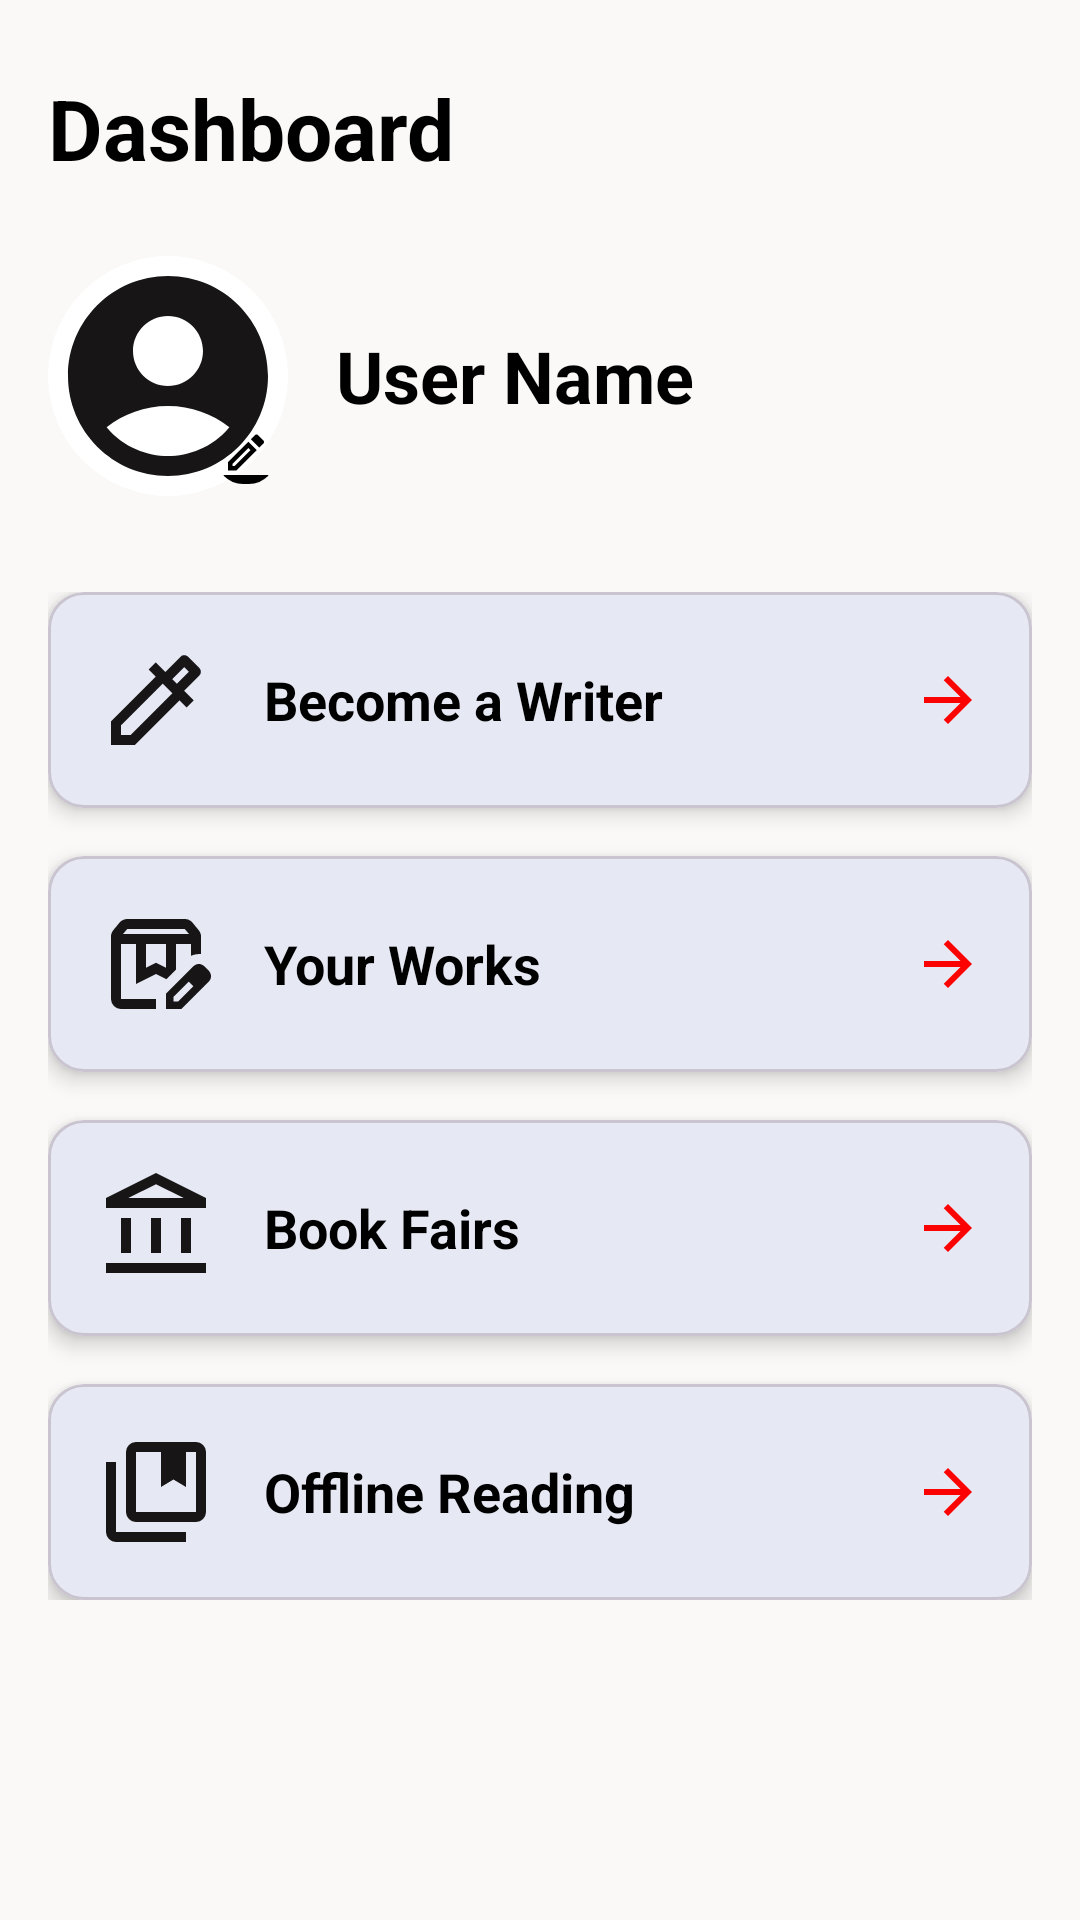

Point at icon controls on the screen. Image size 1080 × 1920, points as point (x, y).
arrow right: point (948, 700), point (948, 964), point (948, 1228), point (948, 1492)
write pen: point (156, 700)
